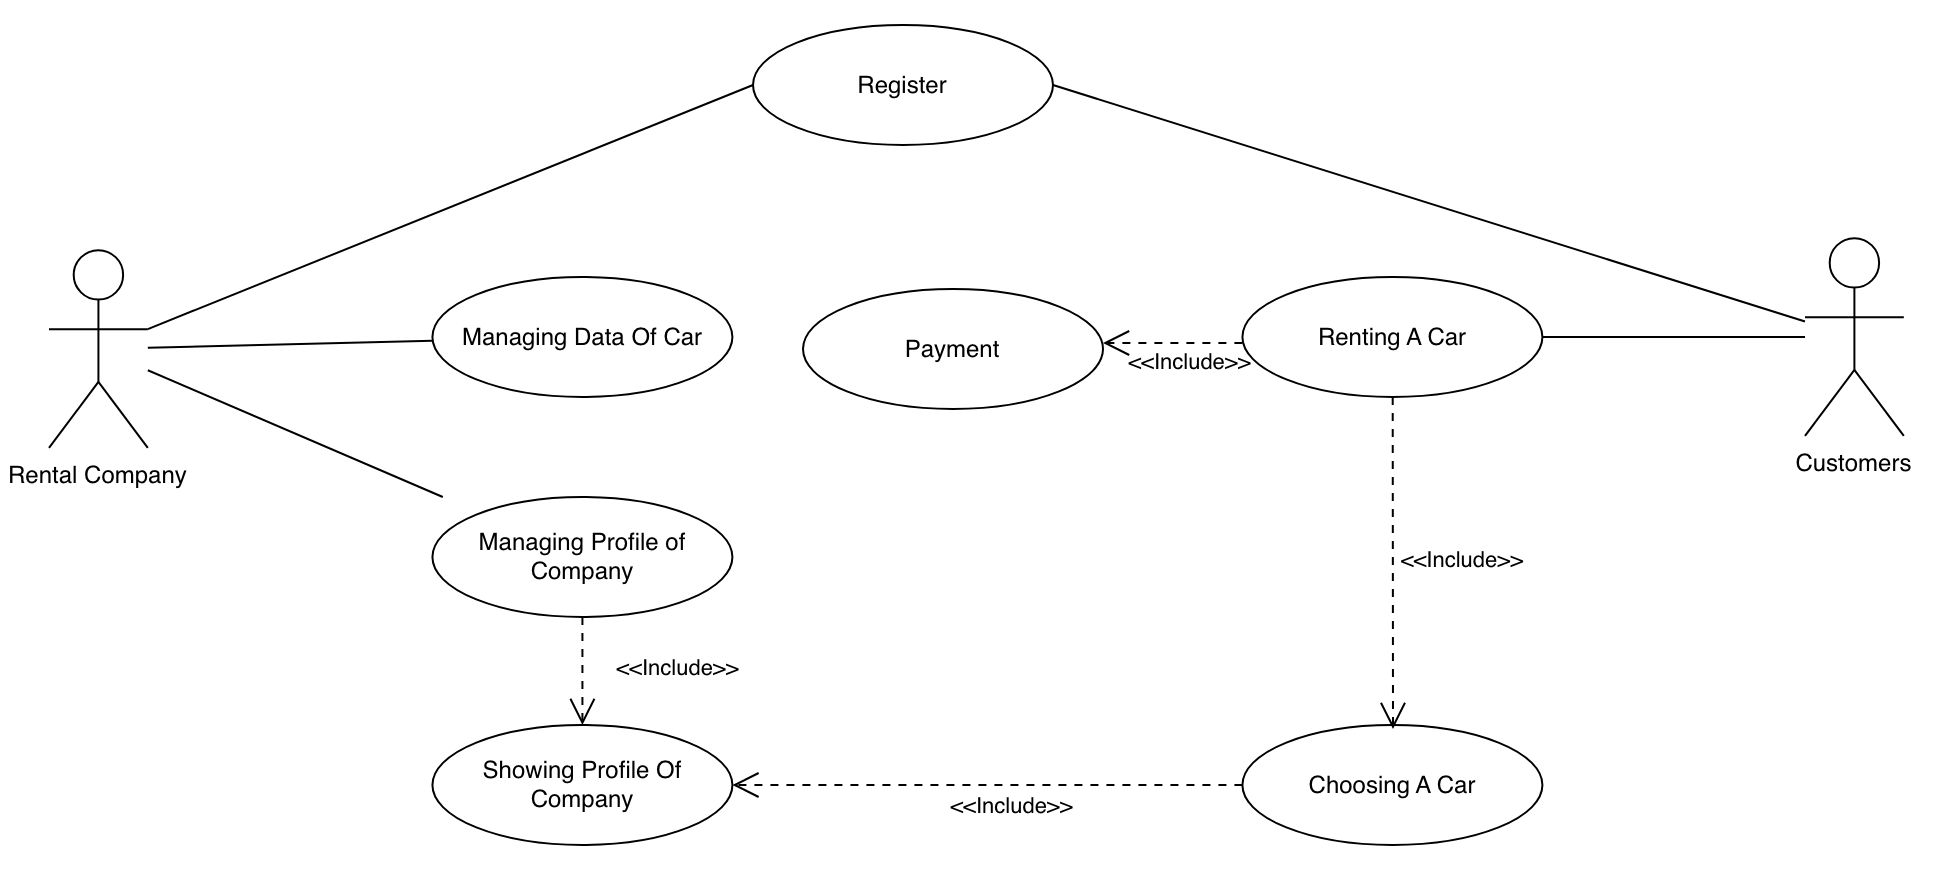actor: (42, 248, 157, 457), (1805, 234, 1910, 444)
association: (1052, 84, 1809, 324), (144, 83, 750, 326), (144, 365, 442, 500), (730, 767, 1249, 795), (1375, 400, 1415, 725), (147, 330, 431, 364), (1547, 319, 1807, 355), (560, 617, 609, 725), (1104, 326, 1242, 355)
text: (472, 522, 697, 597), (480, 754, 695, 823), (456, 314, 709, 356), (2, 457, 201, 492), (1307, 314, 1472, 354), (1785, 445, 1931, 488), (1302, 770, 1485, 802), (1397, 540, 1529, 580), (897, 326, 1012, 366), (847, 63, 952, 106), (1122, 348, 1252, 383), (612, 653, 745, 685), (939, 792, 1077, 820)
use_case: (429, 720, 739, 850), (1237, 720, 1542, 850), (430, 273, 735, 400), (1239, 274, 1545, 400), (431, 494, 734, 622), (749, 21, 1054, 148), (799, 286, 1105, 411)
